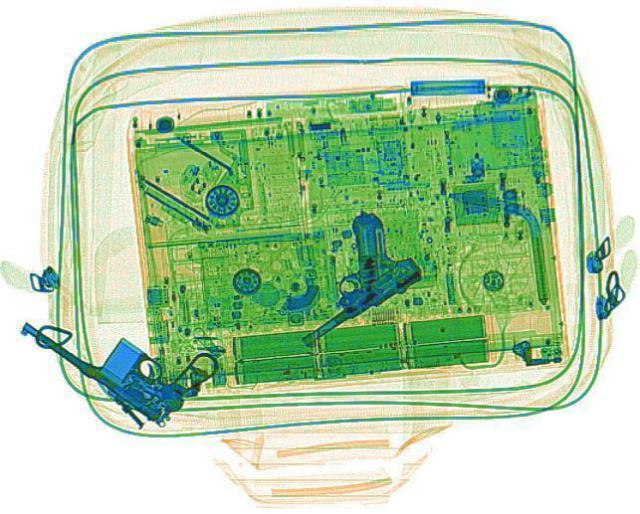Gun: (12, 268, 232, 427), (239, 205, 439, 349)
